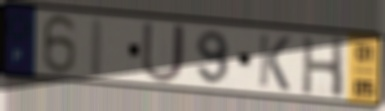6: (40, 13, 79, 76)
9: (194, 29, 235, 86)
H: (300, 34, 347, 101)
I: (88, 15, 107, 80)
K: (256, 31, 292, 93)
U: (139, 20, 188, 85)
